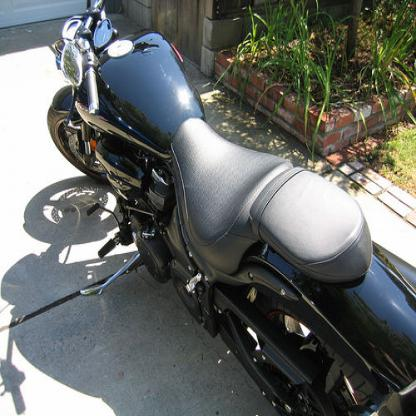motorbike: (46, 0, 415, 415)
